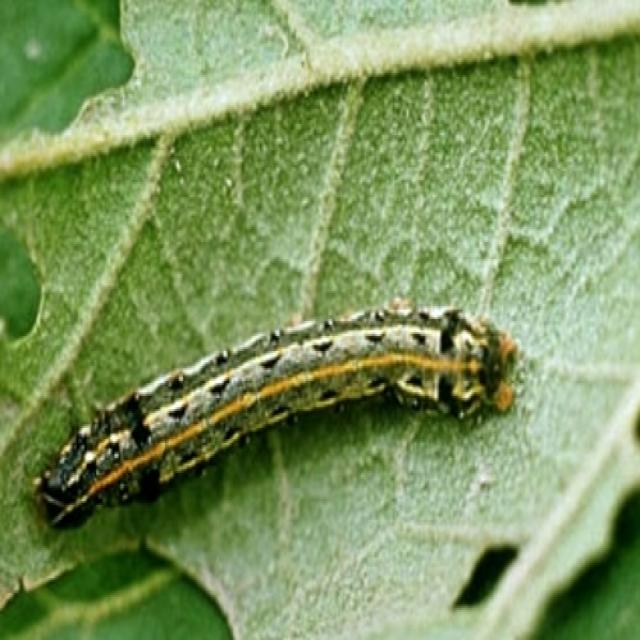armyworm: (31, 293, 521, 529)
